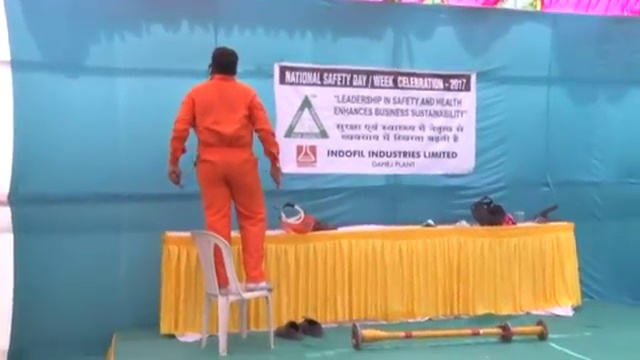helmet_off: (209, 47, 237, 76)
person: (166, 45, 281, 293)
